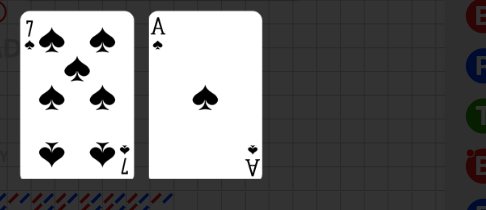7S: (23, 18, 37, 53)
AS: (243, 141, 260, 177)
